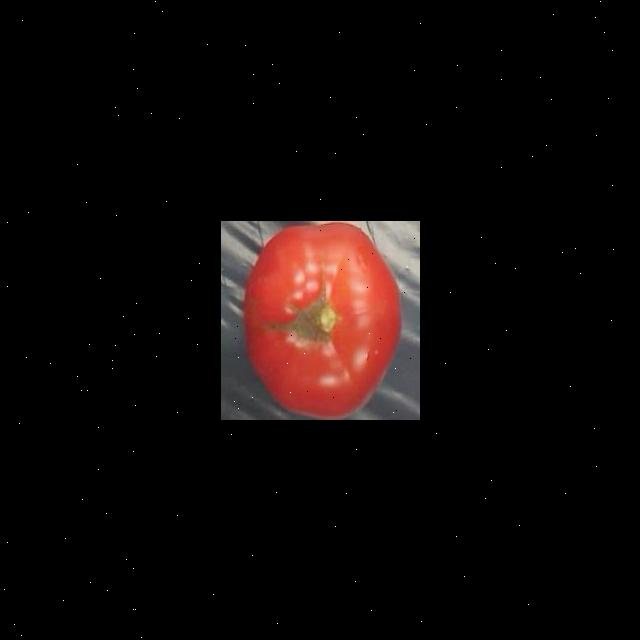tomato: (238, 220, 408, 420)
